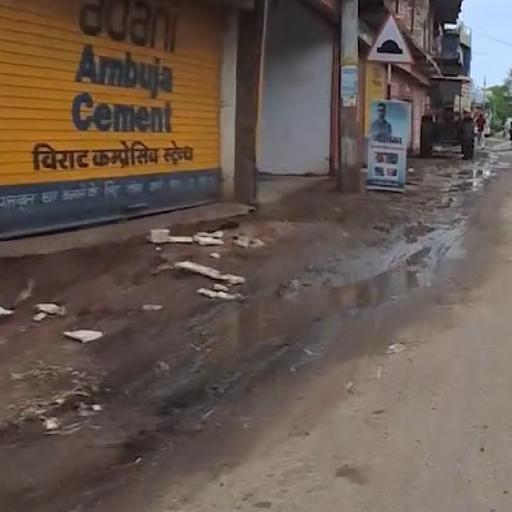edge_damage: (190, 238, 464, 410)
